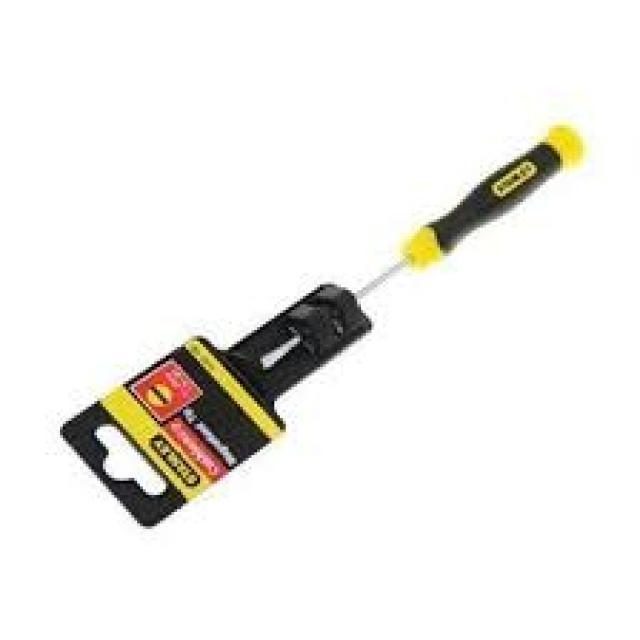screwdriver: (248, 122, 588, 378)
